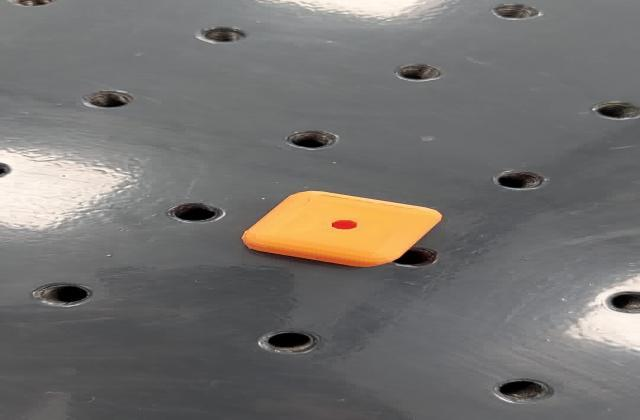cube: (229, 189, 446, 269)
